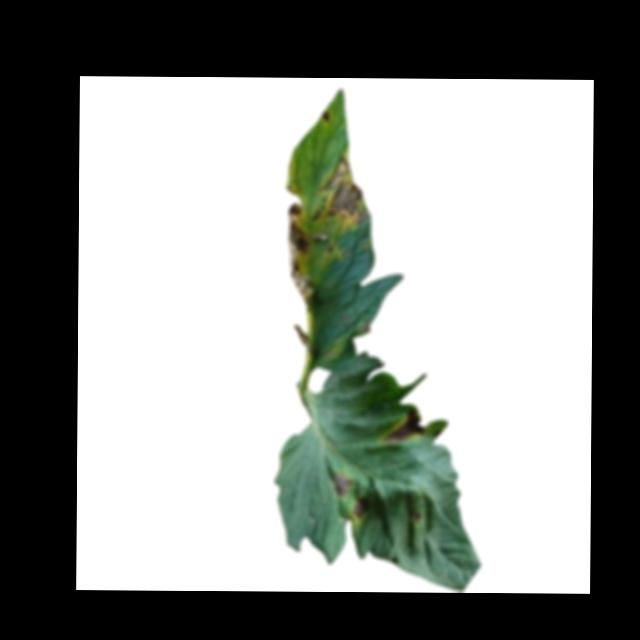Early_blight: (316, 155, 373, 226), (286, 186, 318, 309), (382, 410, 425, 448), (331, 475, 351, 494), (350, 502, 364, 519), (319, 109, 330, 126)
